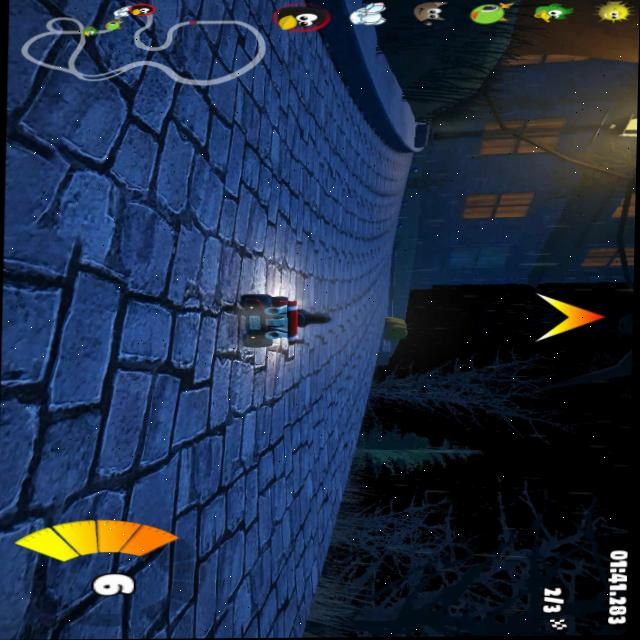player_kart: (227, 292, 328, 348)
track: (0, 0, 324, 295), (0, 294, 231, 640), (228, 348, 331, 638), (329, 153, 406, 362), (331, 364, 376, 498), (329, 91, 366, 154)
